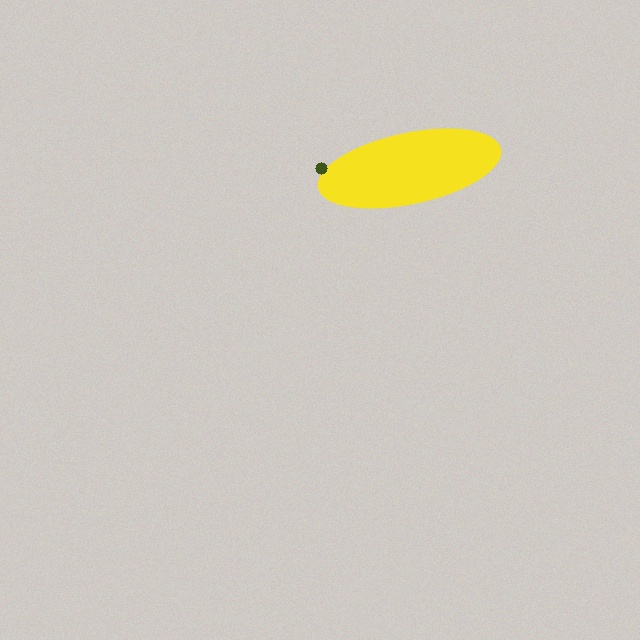Fresh banana: (312, 125, 506, 211)
